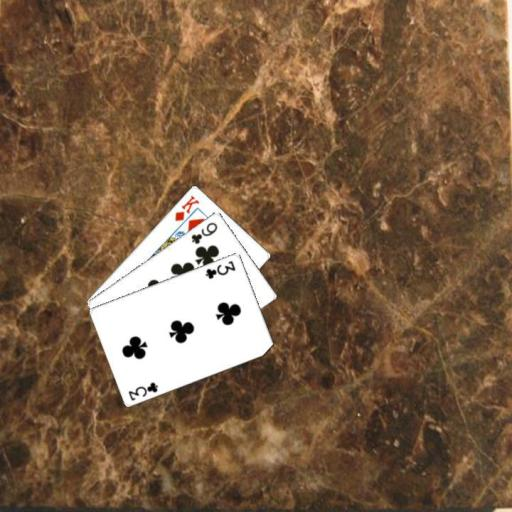3C: (125, 378, 160, 402), (203, 258, 237, 281)
9C: (188, 219, 219, 246)
KD: (172, 192, 201, 223)
